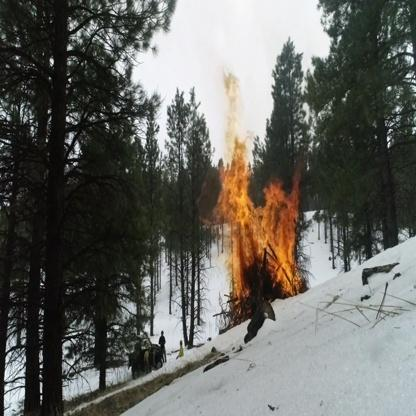Fire: (212, 67, 308, 323)
